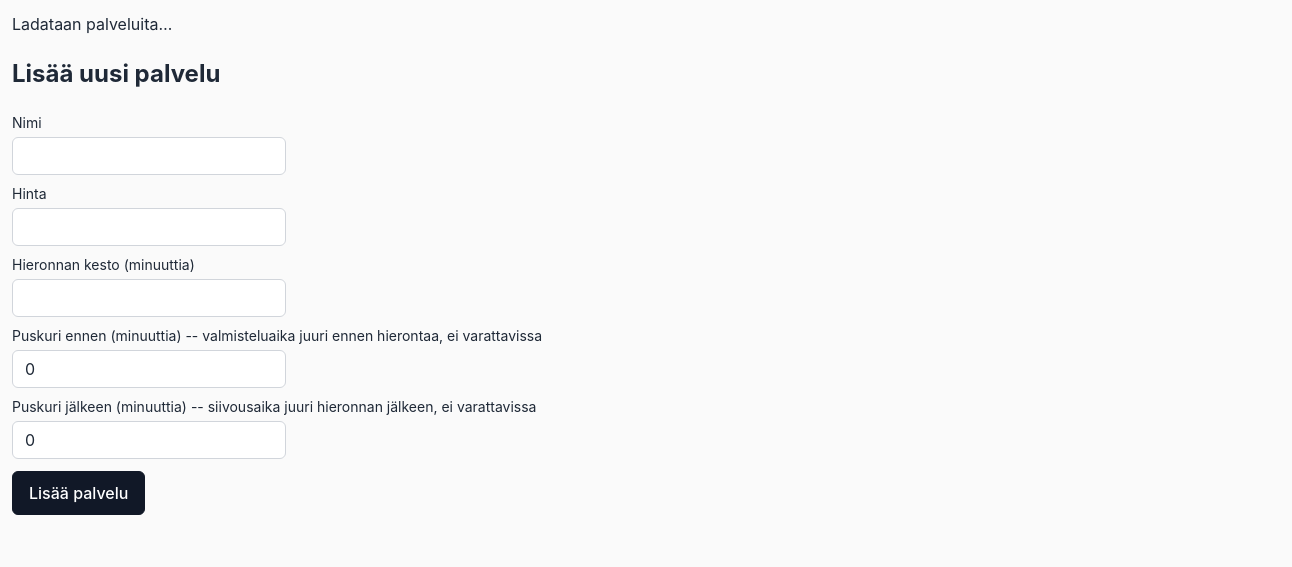
Test case: AdminServices › rejects a non-positive price client-side with no request sent
Check: the element "Lisää uusi palvelu" is shown, box [12, 59, 542, 515]
Type "Free Massage" into the field labelled "Nimi" at x=149, y=156, box [12, 137, 286, 175]
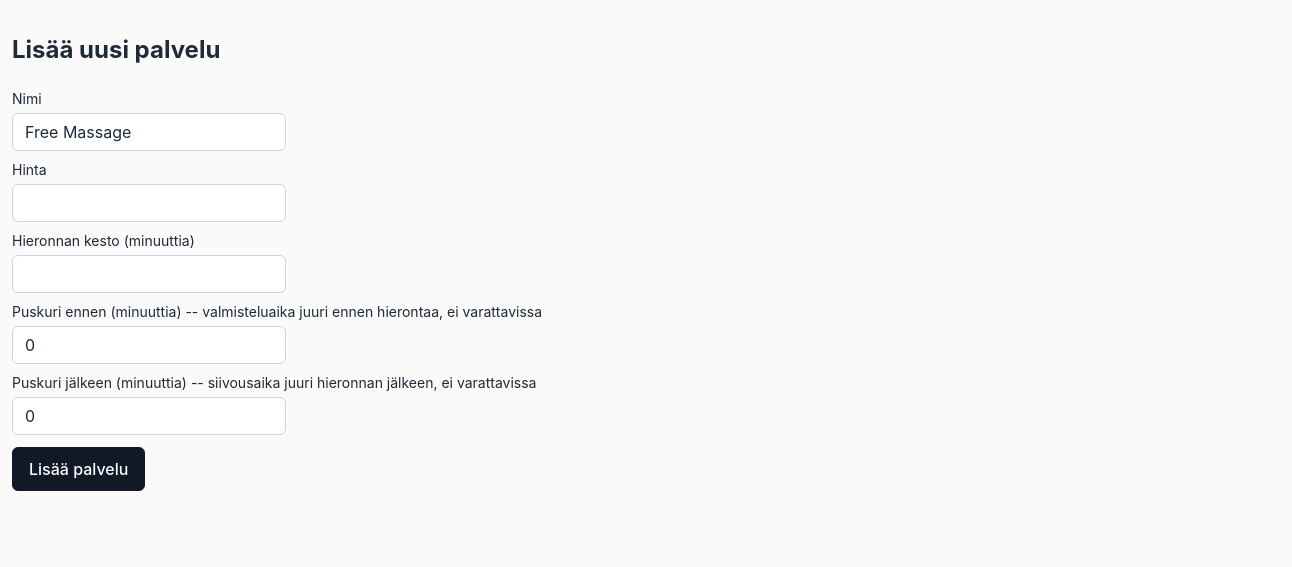
Type "0" into the number field labelled "Hinta" at x=149, y=203, box [12, 184, 286, 222]
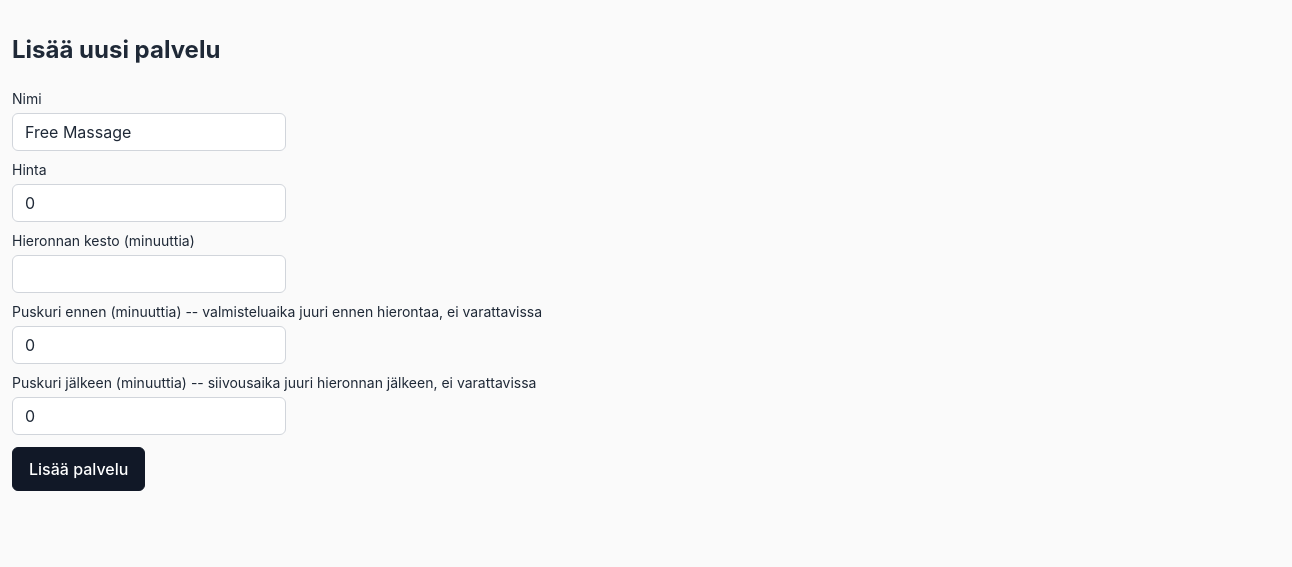
Type "30" into the number field labelled "Hieronnan kesto (minuuttia)" at x=149, y=274, box [12, 255, 286, 293]
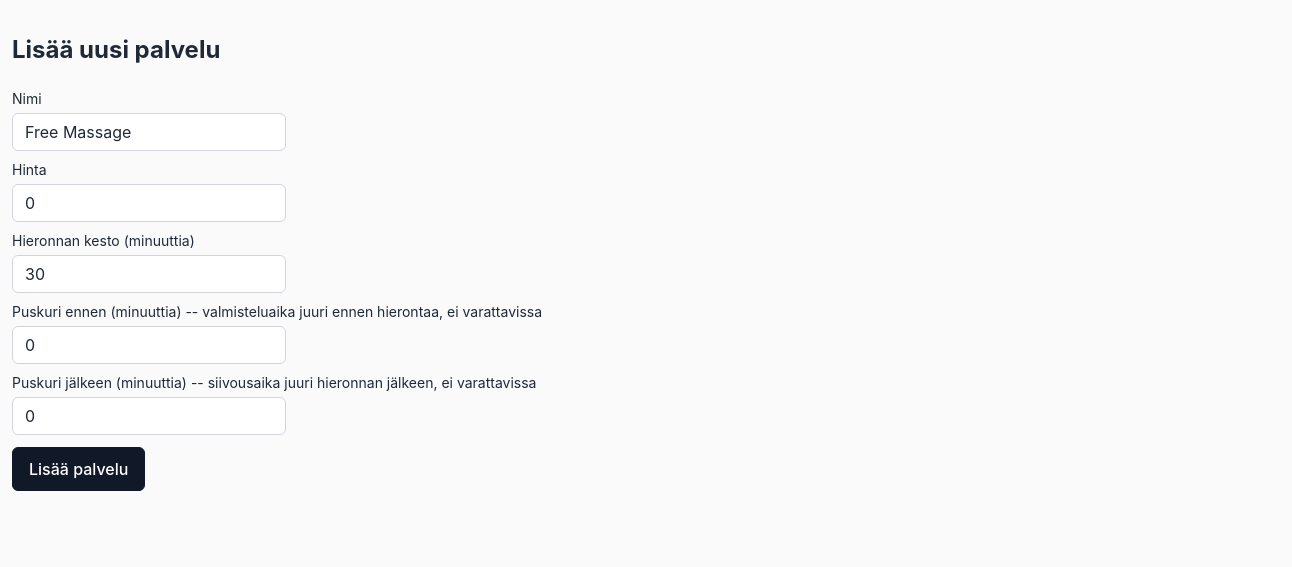
Click the button "Lisää palvelu" at x=79, y=469, box [12, 447, 145, 491]
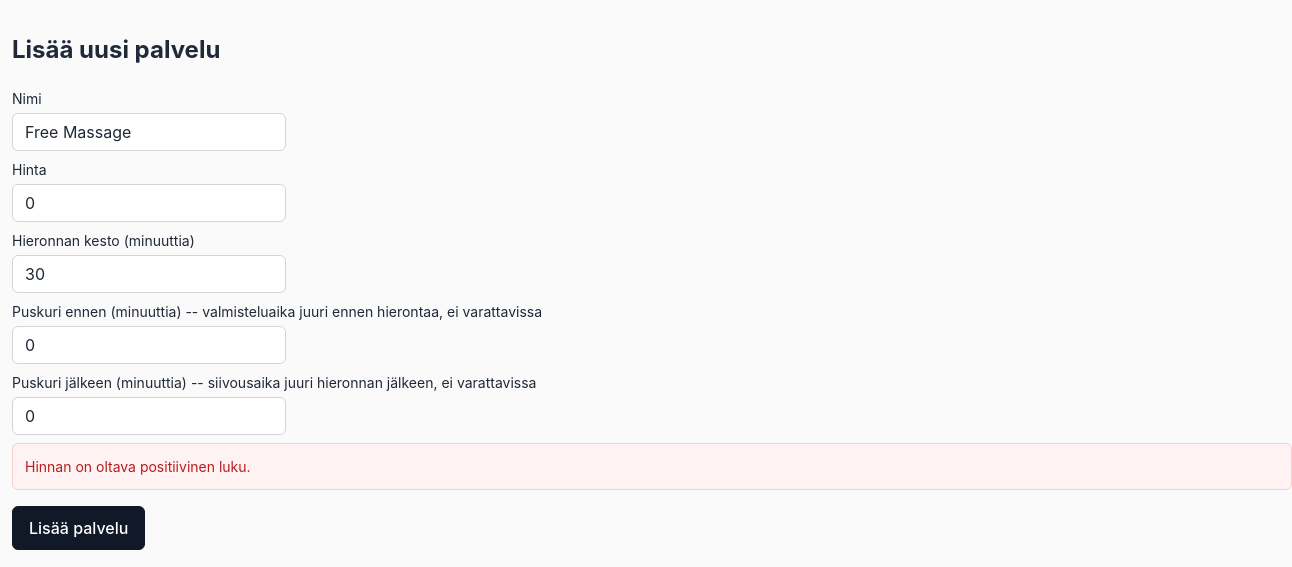
Check: the message reads "Hinnan on oltava positiivinen luku.", box [25, 458, 251, 475]
